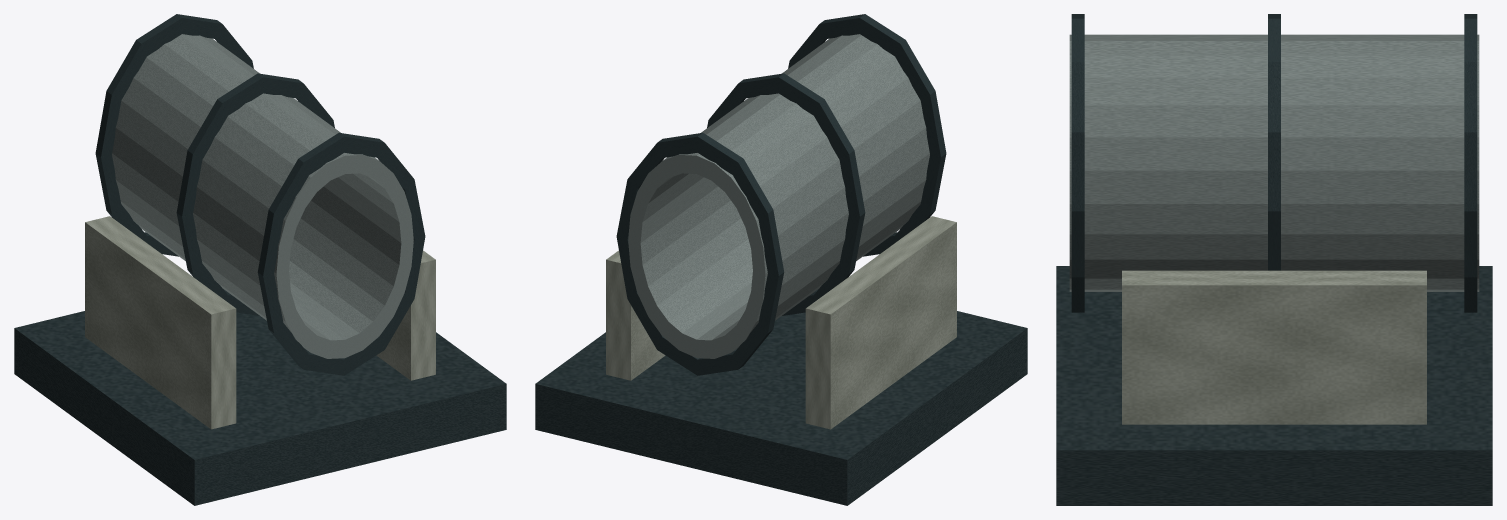
The model's file is sediment_nozzle_01.fbx.
The picture shows the model from 3 angles, left to right: view 1: azimuth 30°, elevation 25°; view 2: azimuth 150°, elevation 25°; view 3: azimuth 270°, elevation 25°; orthographic projection. The views are drawn at different scales.
Visible parts, largest first — view 1: sediment_nozzle_01_LOD0; view 2: sediment_nozzle_01_LOD0; view 3: sediment_nozzle_01_LOD0.
Boxes of the visible parts, x1,y1,x2,y2 form: sediment_nozzle_01_LOD0: (14,14,506,505); sediment_nozzle_01_LOD0: (535,14,1027,505); sediment_nozzle_01_LOD0: (1056,14,1492,505).
Size of what is drawn, in the model's own units: 1 by 1 by 1.
